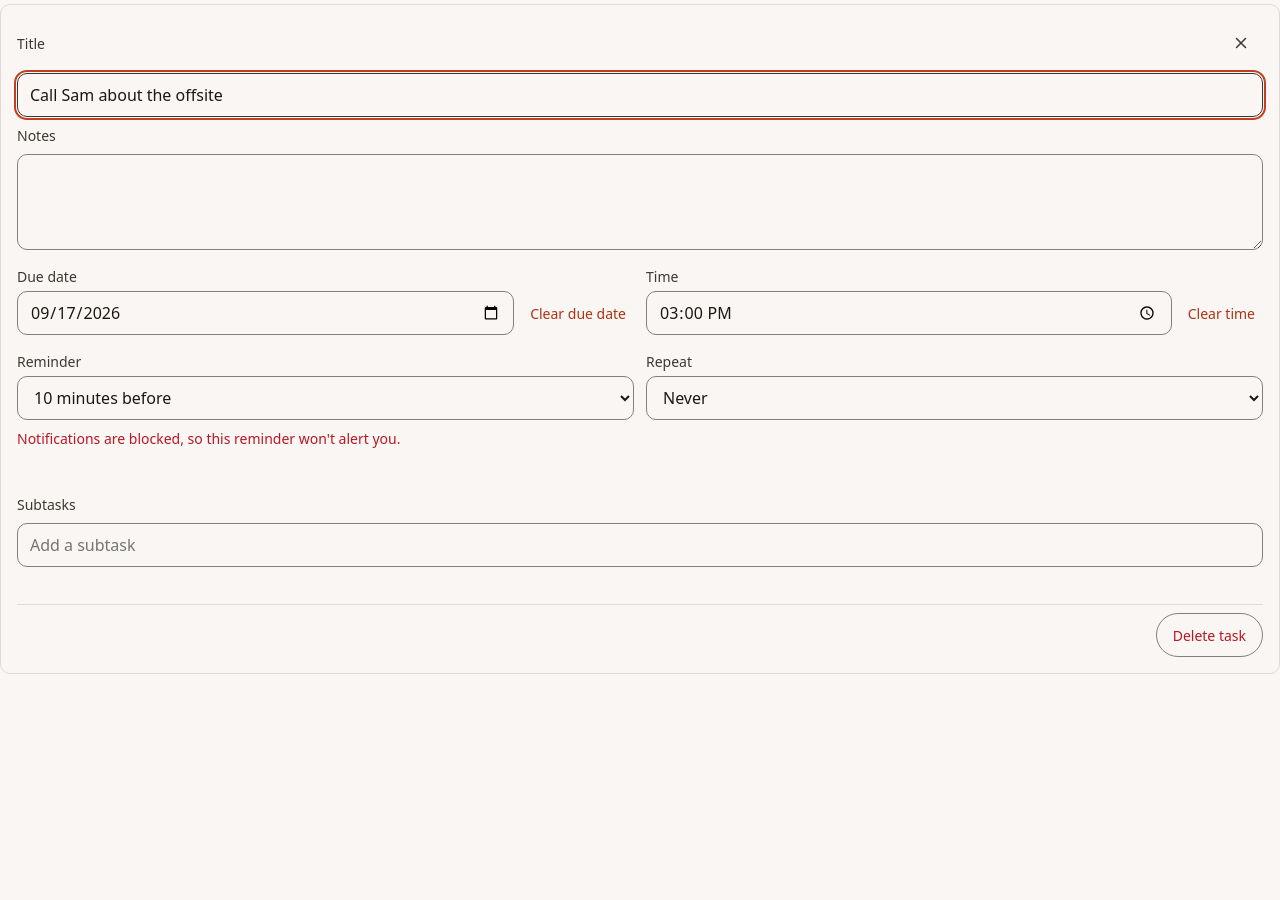
Test case: TaskDetail › clearing the time keeps the date and reminds at 9:00 less the offset
The width and height of the screenshot is (1280, 900).
Click the button "Clear time". click: (1221, 313)
box: [1180,291,1263,335]
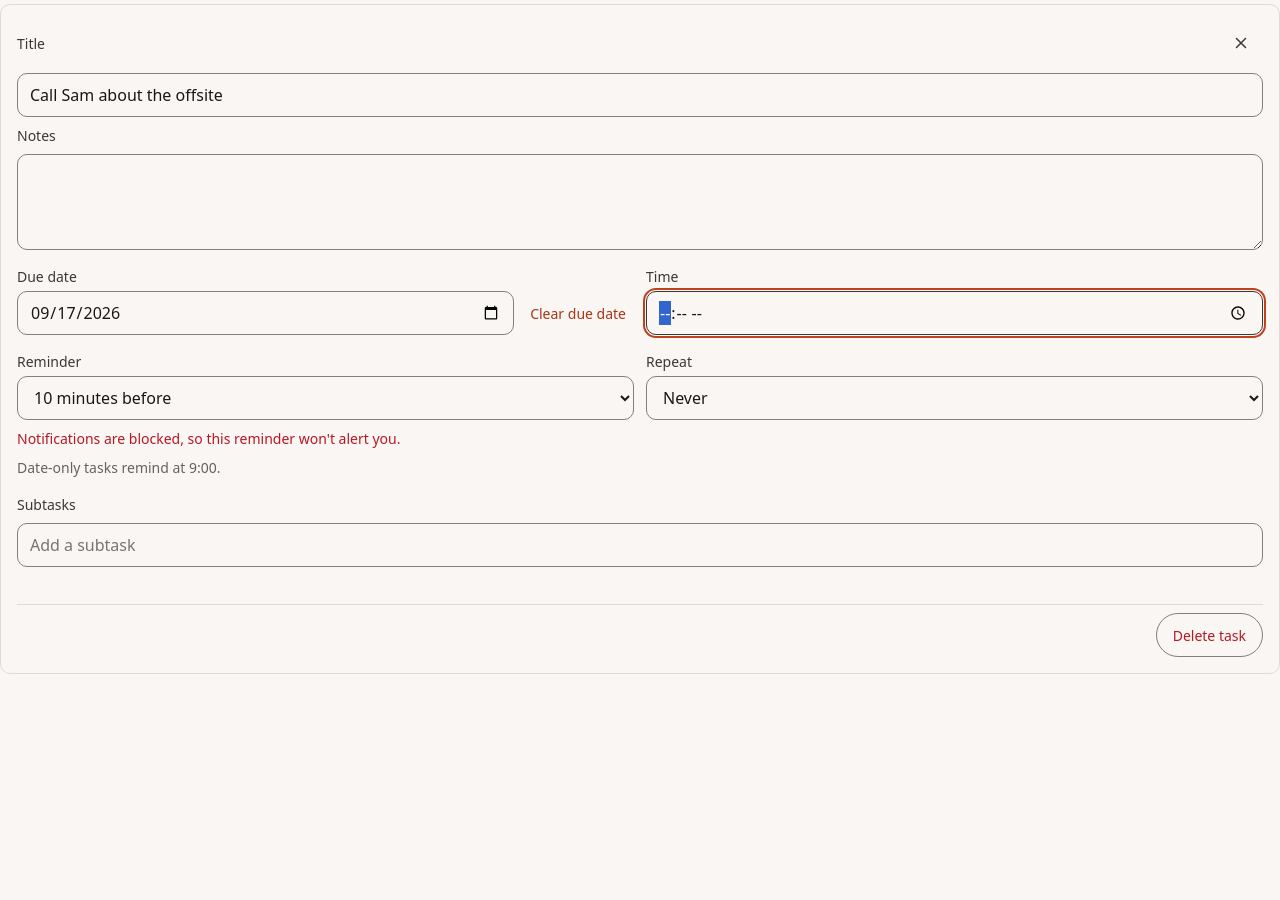
Expected: the text "Date-only tasks remind at 9:00." is shown, [17,458,221,477]
